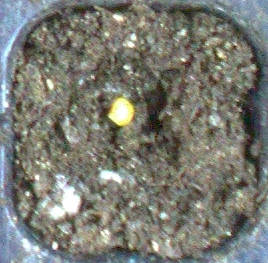chilli seed: (108, 97, 134, 126)
